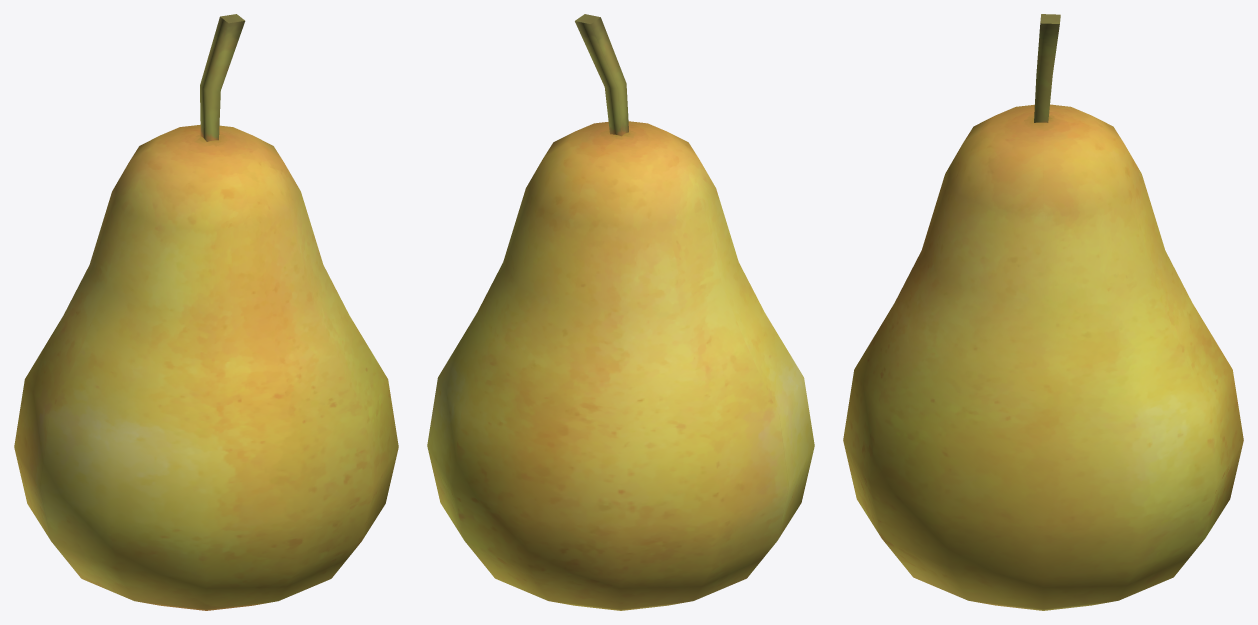
The model's file is G_FruitTree_002_S2.FBX.
3 renders of one model, left to right at view 1: azimuth 30°, elevation 25°; view 2: azimuth 150°, elevation 25°; view 3: azimuth 270°, elevation 25°, orthographic. The views are drawn at different scales.
Visible parts, largest first — view 1: G_FruitTree_002_S2_P01_LOD0; view 2: G_FruitTree_002_S2_P01_LOD0; view 3: G_FruitTree_002_S2_P01_LOD0.
Part boxes in pixels (x1,y1,x2,y2): G_FruitTree_002_S2_P01_LOD0: [14, 14, 398, 610]; G_FruitTree_002_S2_P01_LOD0: [427, 14, 814, 610]; G_FruitTree_002_S2_P01_LOD0: [843, 14, 1243, 610].
Bounding box in the file's own units: 36.54 × 58.04 × 36.54.
Materials: 1 (1 with a texture image).
